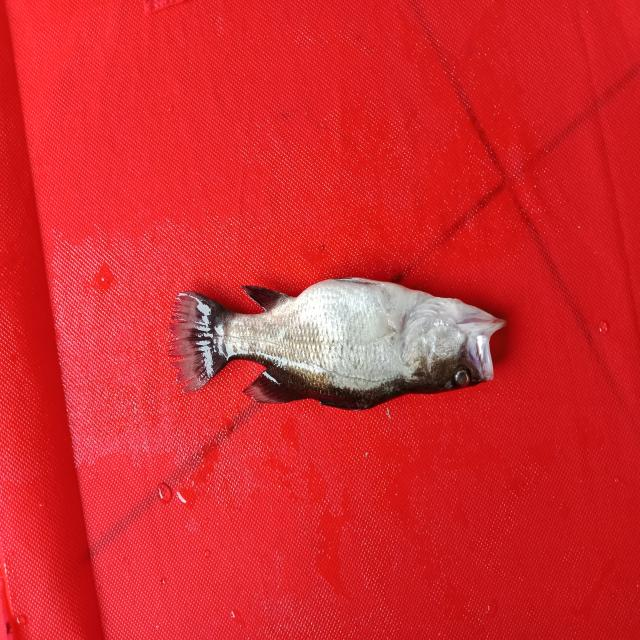ikan: (172, 242, 525, 429)
